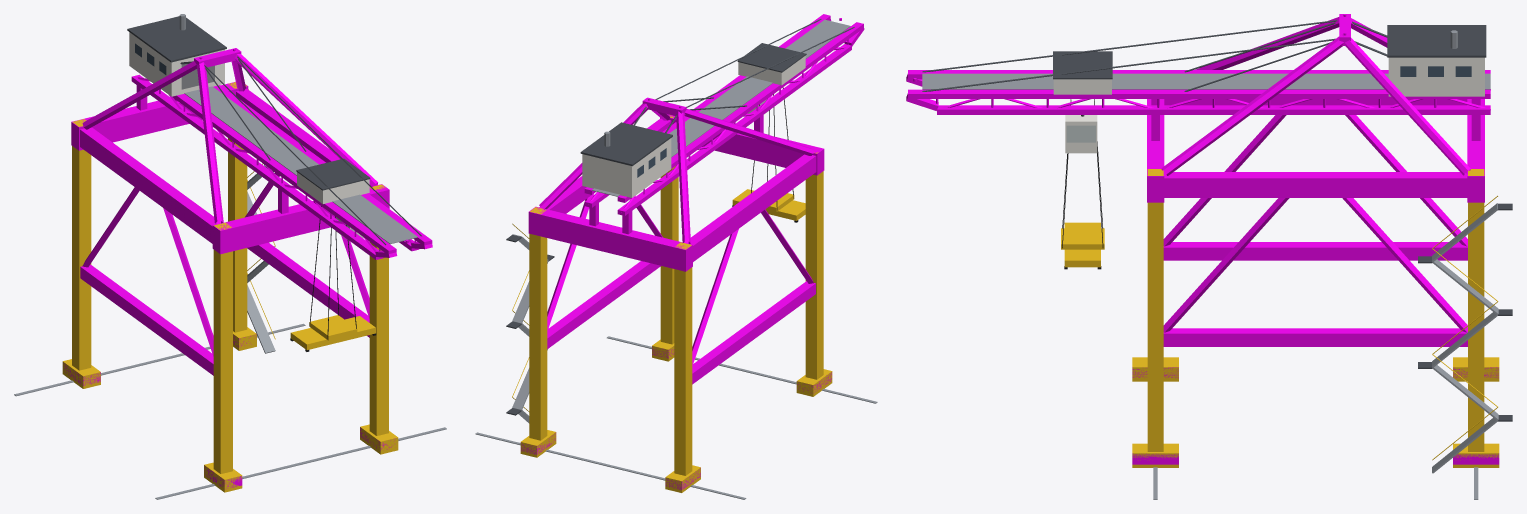
The model's file is lm_crane.glb.
3 renders of one model, left to right at view 1: azimuth 30°, elevation 25°; view 2: azimuth 150°, elevation 25°; view 3: azimuth 270°, elevation 25°, orthographic. The views are drawn at different scales.
Visible parts, largest first — view 1: lm_crane__shell, lm_crane__col; view 2: lm_crane__shell, lm_crane__col; view 3: lm_crane__shell, lm_crane__col.
Part boxes in pixels (<box>): lm_crane__shell: <box>14,14,446,499</box>; lm_crane__col: <box>62,82,398,492</box>; lm_crane__shell: <box>475,14,877,499</box>; lm_crane__col: <box>520,115,832,492</box>; lm_crane__shell: <box>906,14,1512,499</box>; lm_crane__col: <box>1132,169,1499,467</box>.
Bounding box in the file's own units: 26 × 30.04 × 41.6.
3 materials, 1 textured.
